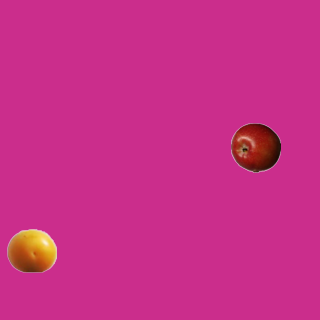Apple Braeburn: (230, 122, 280, 172)
Cherry Wax Yellow: (6, 225, 56, 275)
